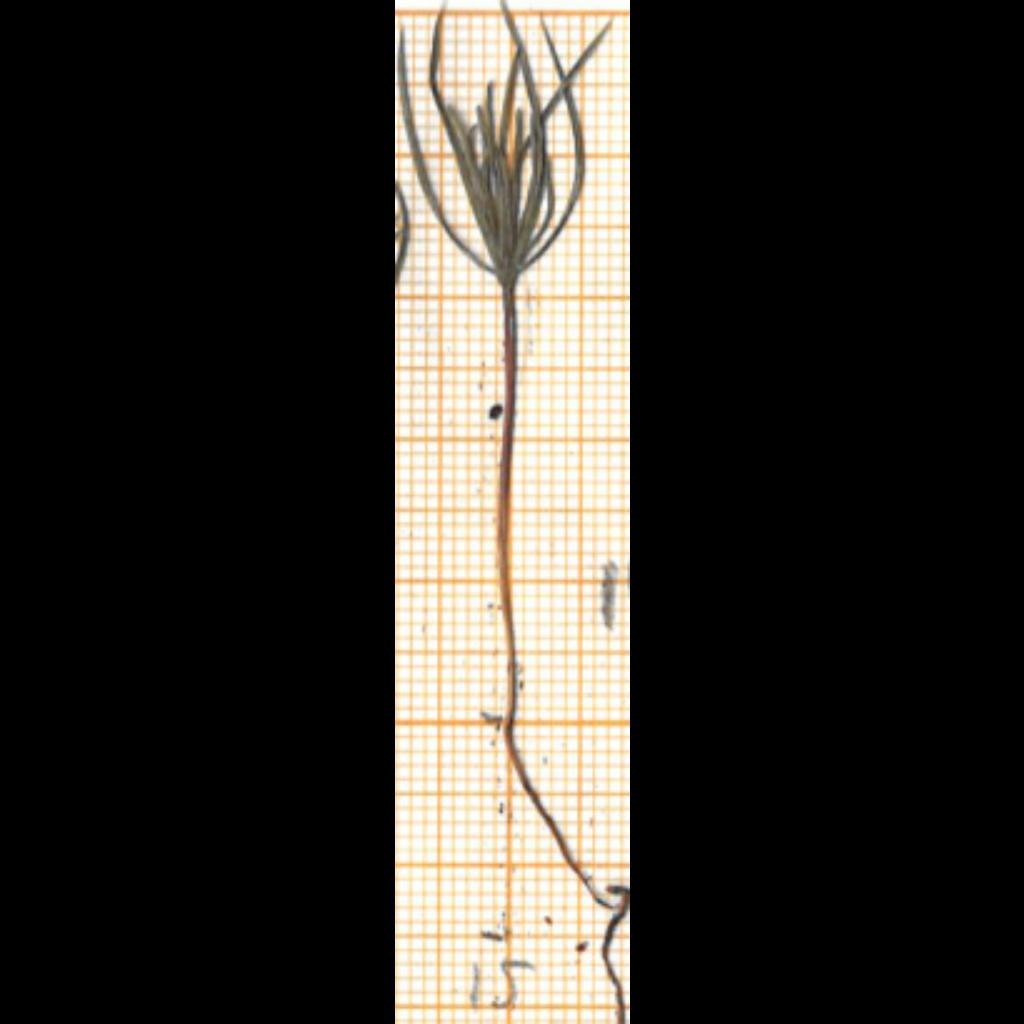flowerPinus: (398, 0, 604, 291)
rootPinus: (505, 731, 629, 1023)
stemPinus: (498, 297, 517, 722)
